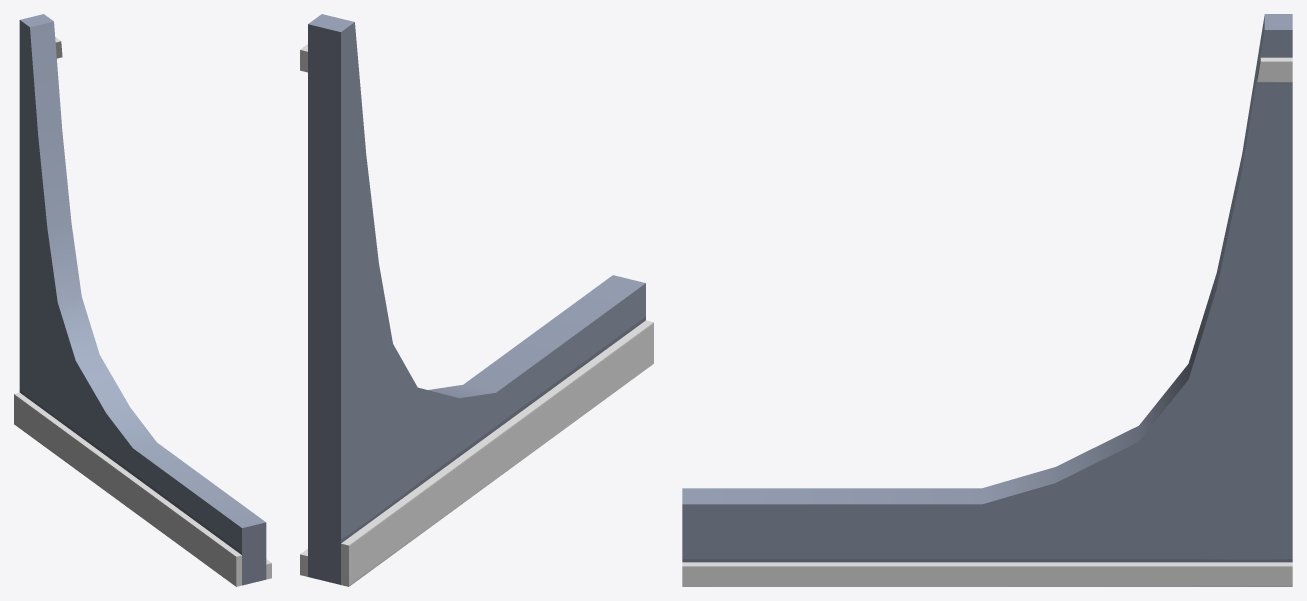
Rendered from office_pack_demoRoom_wall_A_visible.fbx.
3 views of the same model, side by side, from view 1: azimuth 30°, elevation 25°; view 2: azimuth 150°, elevation 25°; view 3: azimuth 270°, elevation 25° (orthographic). The views are drawn at different scales.
Visible parts, largest first — view 1: office_pack_demoRoom_wall_A_visible; view 2: office_pack_demoRoom_wall_A_visible; view 3: office_pack_demoRoom_wall_A_visible.
Part boxes in pixels (left/top/right/bottom): office_pack_demoRoom_wall_A_visible: left=14, top=14, right=271, bottom=586; office_pack_demoRoom_wall_A_visible: left=300, top=14, right=653, bottom=586; office_pack_demoRoom_wall_A_visible: left=682, top=14, right=1292, bottom=586.
Size of the model in its own units: 18.5 by 200 by 200.
